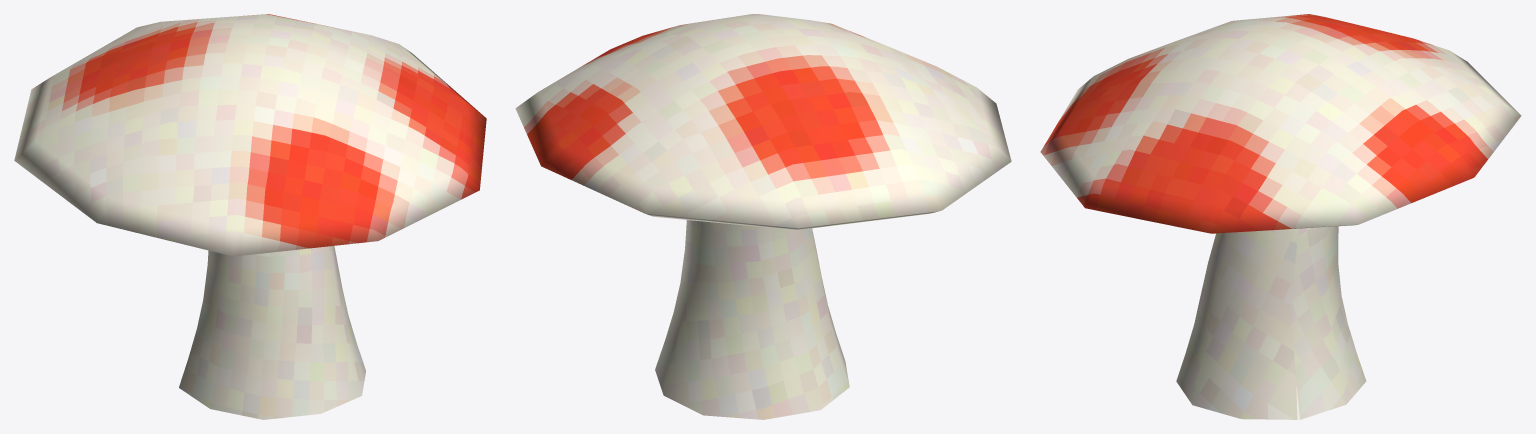
The model's file is mushroom2.glb.
3 renders of one model, left to right at view 1: azimuth 30°, elevation 25°; view 2: azimuth 150°, elevation 25°; view 3: azimuth 270°, elevation 25°, orthographic. The views are drawn at different scales.
Parts seen in each view (by area): view 1: mushroom2; view 2: mushroom2; view 3: mushroom2.
Boxes of the visible parts, left/top/right/bottom form: mushroom2: left=14, top=14, right=486, bottom=419; mushroom2: left=515, top=14, right=1011, bottom=419; mushroom2: left=1040, top=14, right=1521, bottom=419.
Bounding box in the file's own units: 0.1983 × 0.1578 × 0.2057.
Materials: 1 (1 with a texture image).
